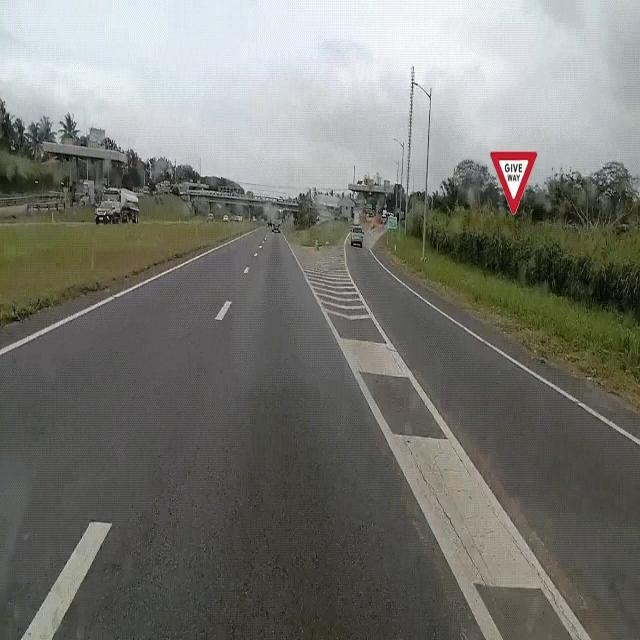Ceder-le-Passage: (486, 136, 540, 222)
